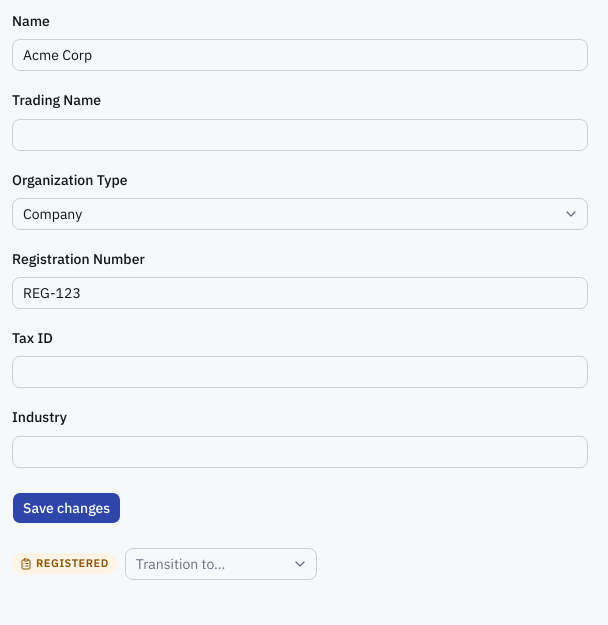
Test: OrganizationForm › surfaces DUPLICATE_REGISTRATION_NUMBER as a field-level error on Registration Number, not a toast
The image size is (608, 625).
Click the button "Save changes" at (67, 508), box top-left (12, 492), bottom-right (121, 524)
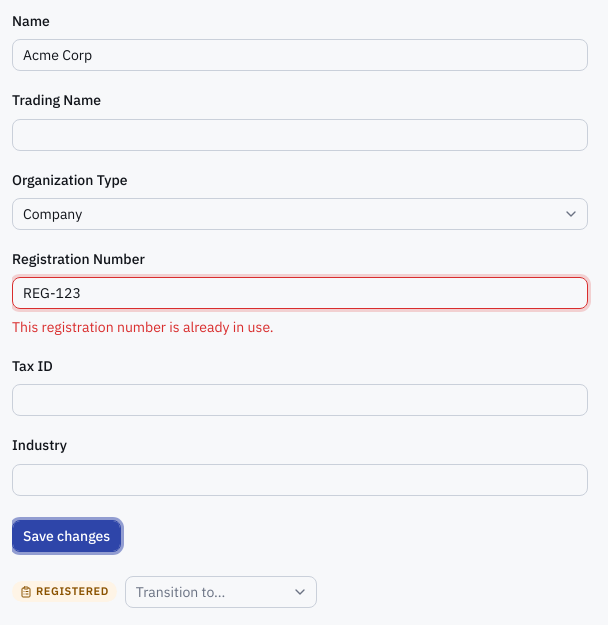
Result: the text "This registration number is already in use." is shown at top-left (12, 318), bottom-right (274, 336)
